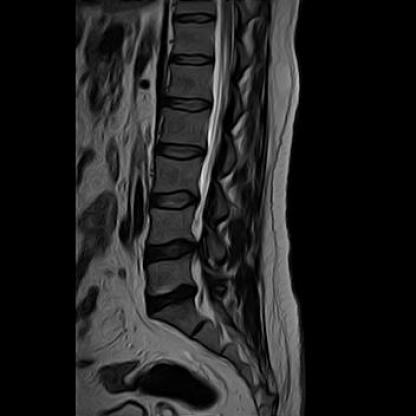Disc Bulgerotation: (140, 235, 209, 269), (141, 284, 209, 315)
